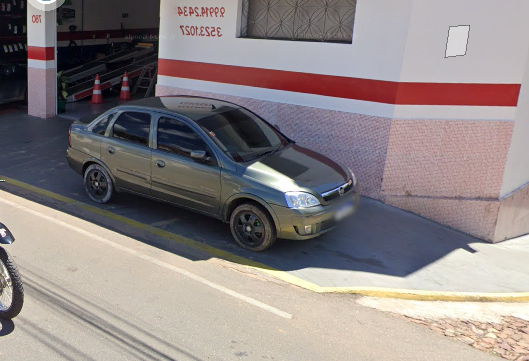car: (62, 90, 367, 261)
